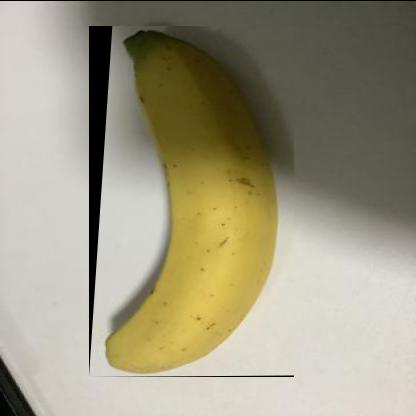bananarotation: (89, 24, 295, 376)
